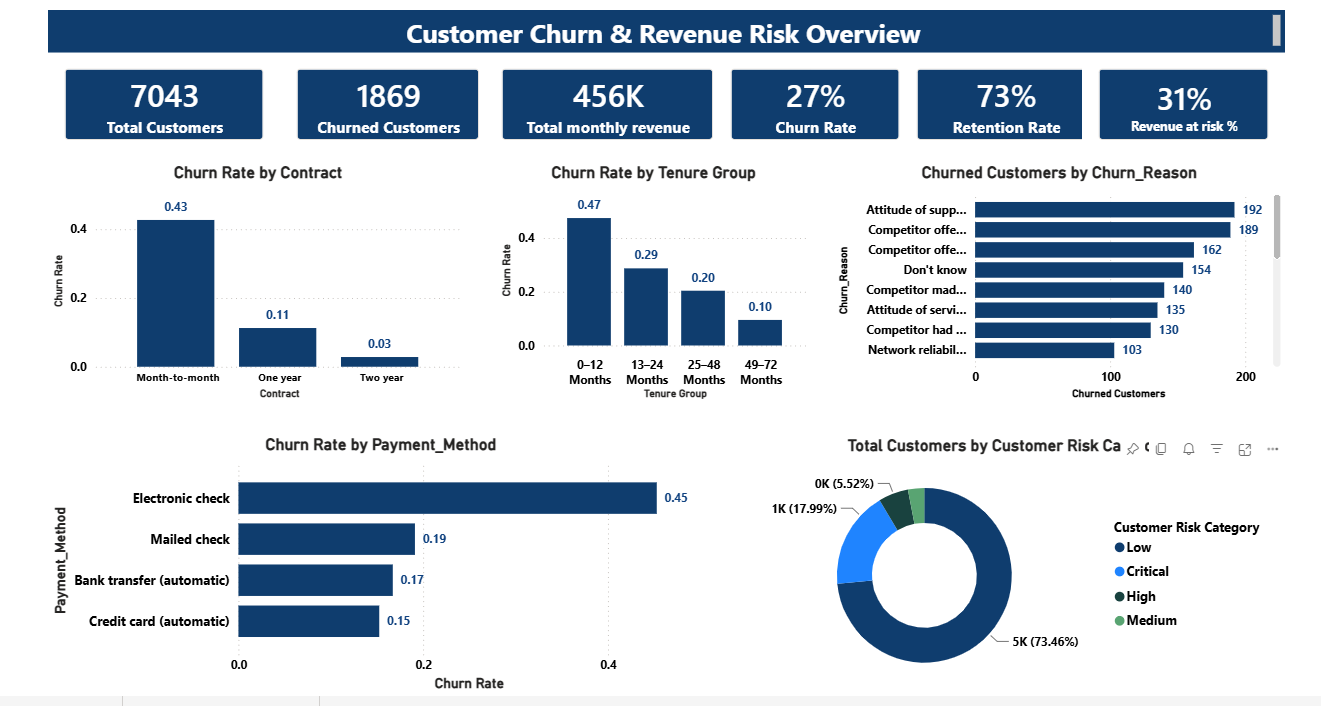

The dashboard page shown, as its layout file describes it:
{"tool":"powerbi","page":{"name":"Executive Overview","canvas":[1280,720],"ordinal":0},"visuals":[{"type":"cardVisual","fields":{"Data":["Customer_Churn.Total Customers"]},"box":[0,54.1,240,108.3],"z":0},{"type":"cardVisual","fields":{"Data":["Customer_Churn.Churned Customers"]},"box":[240,54.1,223.9,108.3],"z":1000},{"type":"cardVisual","fields":{"Data":["Customer_Churn.Churn Rate"]},"box":[689.3,54.1,209.3,108.3],"z":2000},{"type":"cardVisual","fields":{"Data":["Customer_Churn.Retention Rate"]},"box":[881,54.1,219.5,108.3],"z":3000},{"type":"cardVisual","fields":{"Data":["Customer_Churn.Total monthly revenue"]},"box":[452.2,54.1,253.2,108.3],"z":4000},{"type":"cardVisual","fields":{"Data":["Customer_Churn.Revenue at risk %"]},"box":[1069.8,54.1,210.7,108.3],"z":5000},{"type":"clusteredColumnChart","fields":{"Category":["Customer_Churn.Contract"],"Y":["Customer_Churn.Churn Rate"]},"box":[0,168.3,434.6,248.8],"z":6000},{"type":"clusteredColumnChart","fields":{"Y":["Customer_Churn.Churn Rate"],"Category":["Customer_Churn.Tenure Group"]},"box":[463.9,168.3,326.3,248.8],"z":7000},{"type":"donutChart","fields":{"Category":["Customer_Churn.Customer Risk Category"],"Y":["Customer_Churn.Total Customers"]},"box":[705.4,450.7,575.1,269.3],"z":8000},{"type":"clusteredBarChart","fields":{"Category":["Customer_Churn.Payment_Method"],"Y":["Customer_Churn.Churn Rate"]},"box":[0,450.2,688.8,269.4],"z":9000},{"type":"clusteredBarChart","fields":{"Category":["Customer_Churn.Churn_Reason"],"Y":["Customer_Churn.Churned Customers"]},"box":[812.2,168.3,468.3,248.8],"z":10000},{"type":"textbox","box":[0,10.2,1280.5,43.9],"z":11000}]}

Visuals, with their boxes on the page's 1280x720 design canvas (x1, y1, x2, y2). These are canvas units, not pixel positions in the 1321x706 screenshot, which may show the page scaled, cropped or inside an application window:
cardVisual - Customer_Churn.Total Customers: x1=0 y1=54 x2=240 y2=162
cardVisual - Customer_Churn.Churned Customers: x1=240 y1=54 x2=464 y2=162
cardVisual - Customer_Churn.Churn Rate: x1=689 y1=54 x2=899 y2=162
cardVisual - Customer_Churn.Retention Rate: x1=881 y1=54 x2=1100 y2=162
cardVisual - Customer_Churn.Total monthly revenue: x1=452 y1=54 x2=705 y2=162
cardVisual - Customer_Churn.Revenue at risk %: x1=1070 y1=54 x2=1280 y2=162
clusteredColumnChart - Customer_Churn.Contract x Customer_Churn.Churn Rate: x1=0 y1=168 x2=435 y2=417
clusteredColumnChart - Customer_Churn.Churn Rate x Customer_Churn.Tenure Group: x1=464 y1=168 x2=790 y2=417
donutChart - Customer_Churn.Customer Risk Category x Customer_Churn.Total Customers: x1=705 y1=451 x2=1280 y2=720
clusteredBarChart - Customer_Churn.Payment_Method x Customer_Churn.Churn Rate: x1=0 y1=450 x2=689 y2=720
clusteredBarChart - Customer_Churn.Churn_Reason x Customer_Churn.Churned Customers: x1=812 y1=168 x2=1280 y2=417
textbox: x1=0 y1=10 x2=1280 y2=54
